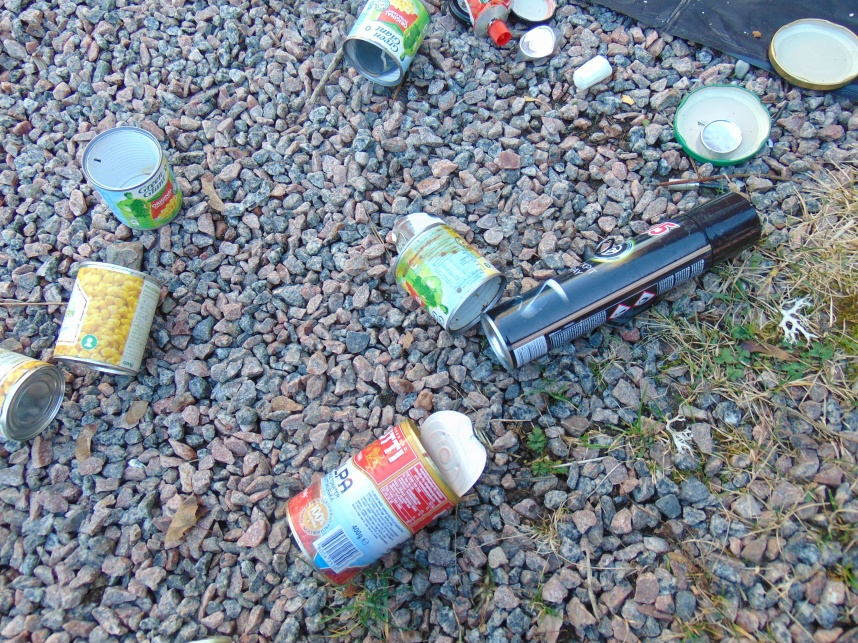metal: (675, 82, 771, 163), (769, 18, 858, 91), (425, 411, 500, 483), (438, 1, 510, 45), (697, 116, 742, 155), (391, 208, 438, 245), (518, 28, 561, 62), (505, 1, 558, 22)
metal_can: (481, 194, 759, 372), (283, 417, 459, 590), (54, 260, 163, 380), (395, 224, 499, 335), (80, 126, 184, 230), (346, 1, 431, 88), (1, 348, 66, 442)
